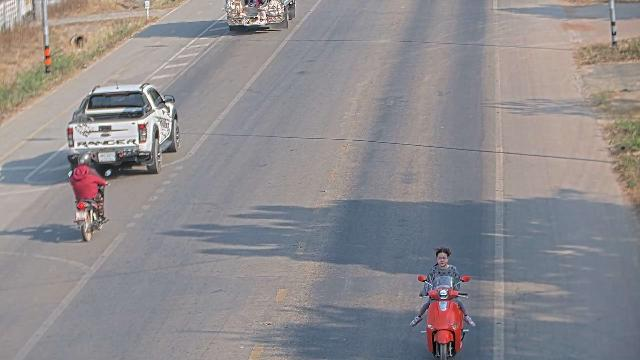motorcycle: (415, 263, 473, 360), (67, 160, 113, 242)
pickup-truck: (66, 81, 180, 176)
